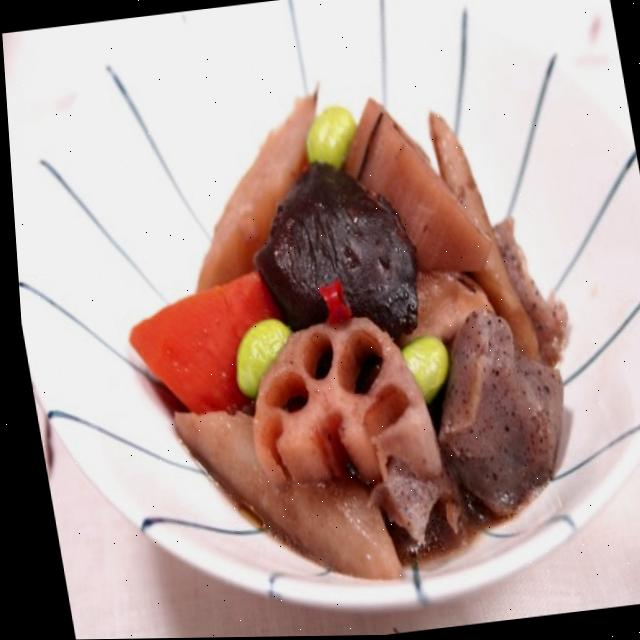鸡肉料理 含炸鸡: (73, 7, 640, 631)
